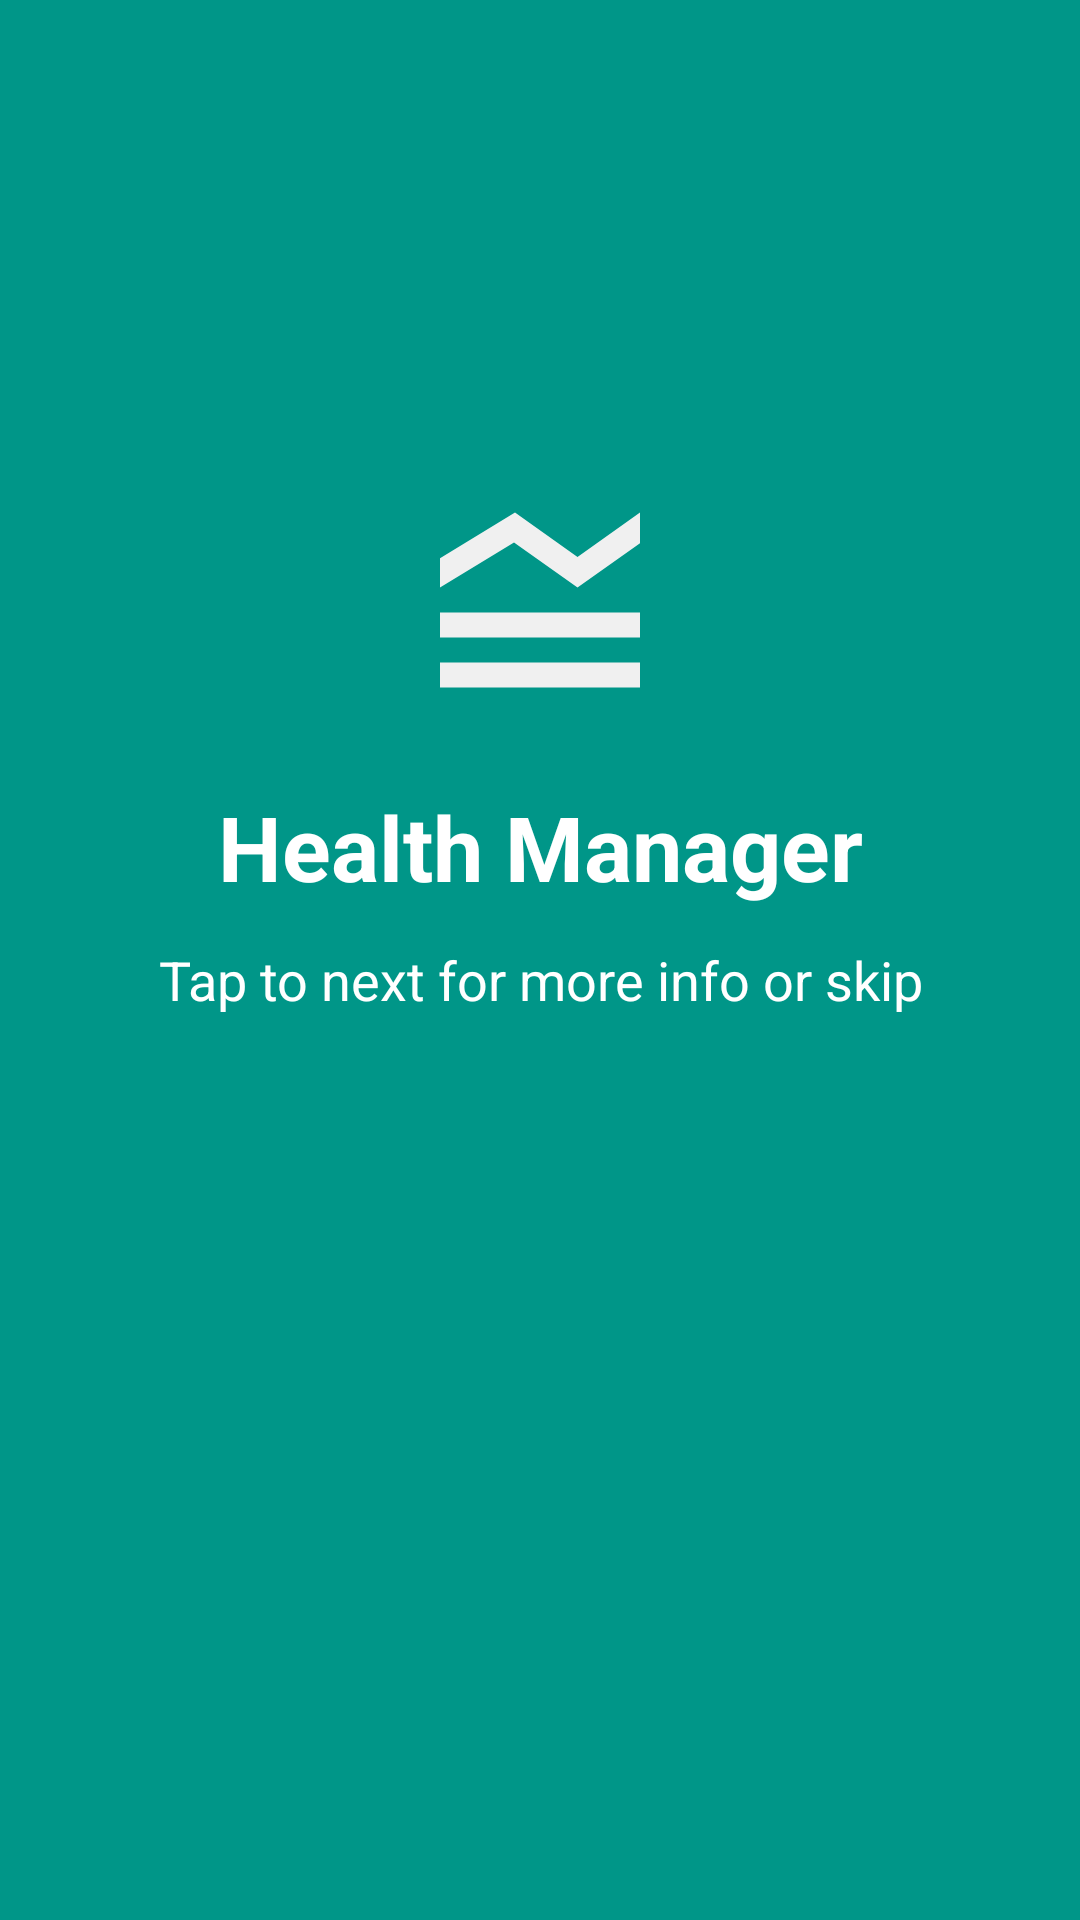

Icon click points for this 1080px×1920px phone screenshot, format point (x, y):
legend toggle: point (540, 600)
